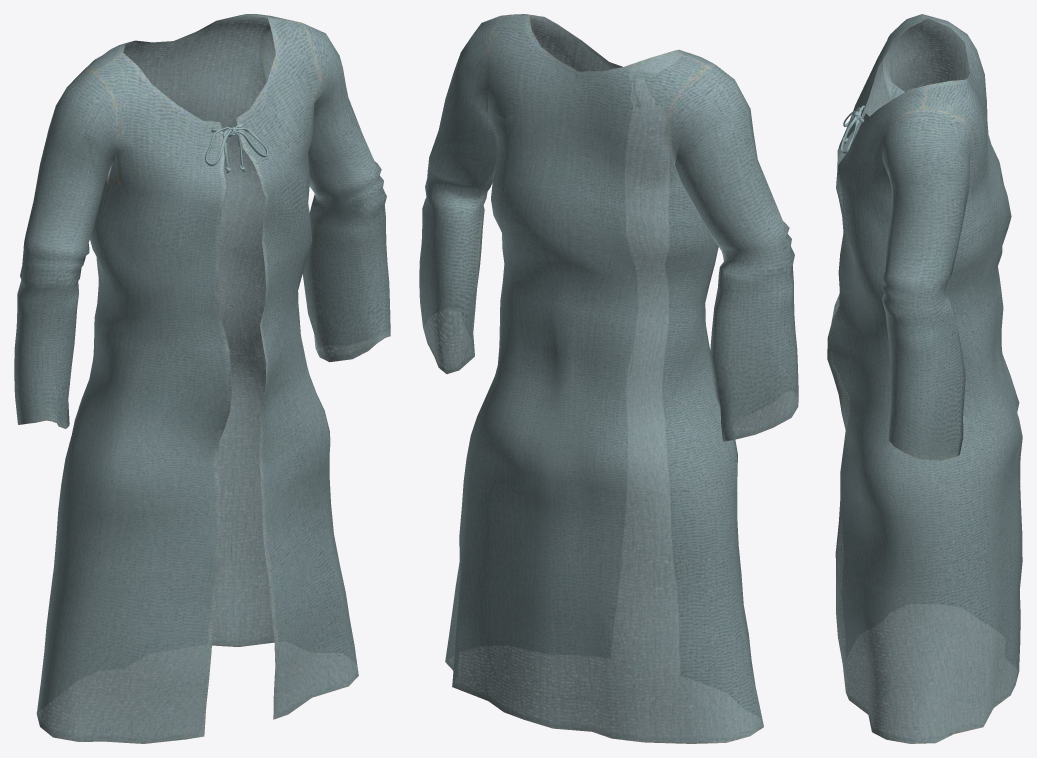
The model's file is mindfront-cardigan-long-open-front.glb.
3 views of the same model, side by side, from view 1: azimuth 30°, elevation 25°; view 2: azimuth 150°, elevation 25°; view 3: azimuth 270°, elevation 25° (orthographic). The views are drawn at different scales.
Visible parts, largest first — view 1: Human.mindfront_cardigan_long_open_front; view 2: Human.mindfront_cardigan_long_open_front; view 3: Human.mindfront_cardigan_long_open_front.
Boxes of the visible parts, x1,y1,x2,y2 form: Human.mindfront_cardigan_long_open_front: [14, 14, 390, 743]; Human.mindfront_cardigan_long_open_front: [419, 14, 798, 743]; Human.mindfront_cardigan_long_open_front: [827, 14, 1022, 743].
Bounding box in the file's own units: 0.7307 × 1.26 × 0.3562.
Materials: 1 (1 with a texture image).
